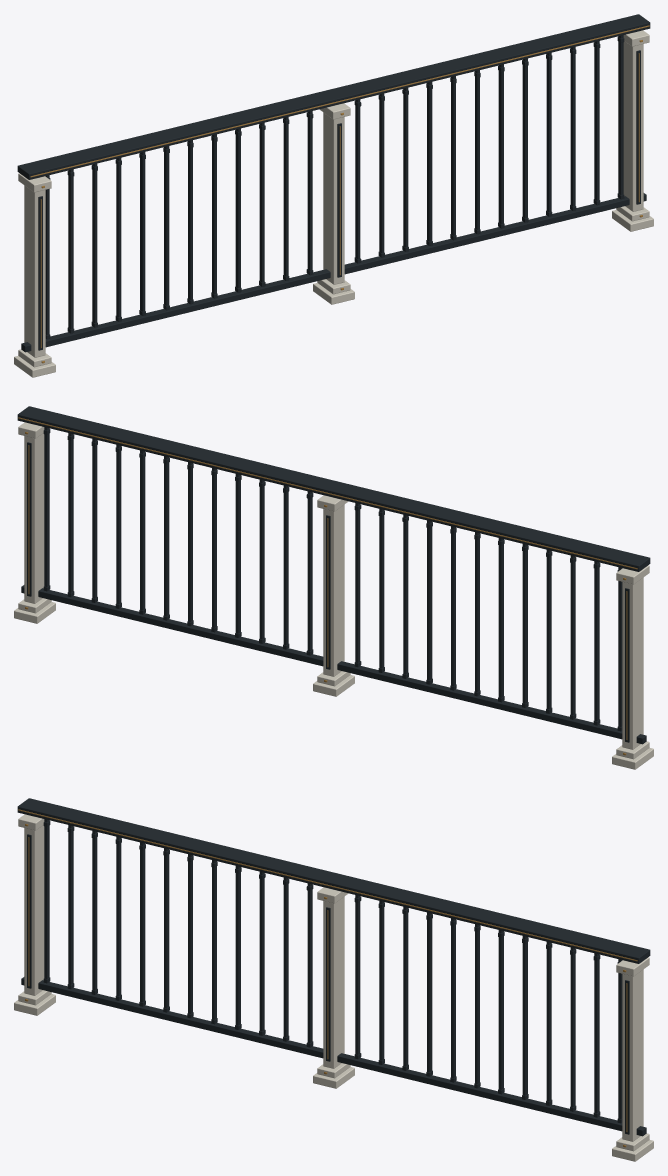
File: SM_Aurelion_KIT_Z03BridgeRail.fbx
The picture shows the model from 3 angles, top to bottom: view 1: azimuth 30°, elevation 25°; view 2: azimuth 150°, elevation 25°; view 3: azimuth 330°, elevation 25°; orthographic projection.
Parts seen in each view (by area): view 1: SM_Aurelion_KIT_Z03BridgeRail; view 2: SM_Aurelion_KIT_Z03BridgeRail; view 3: SM_Aurelion_KIT_Z03BridgeRail.
Part boxes in pixels (x1=…): SM_Aurelion_KIT_Z03BridgeRail: x1=14, y1=14, x2=653, y2=377; SM_Aurelion_KIT_Z03BridgeRail: x1=14, y1=406, x2=653, y2=769; SM_Aurelion_KIT_Z03BridgeRail: x1=14, y1=798, x2=653, y2=1161.
Size of the model in its own units: 420 by 22 by 130.
